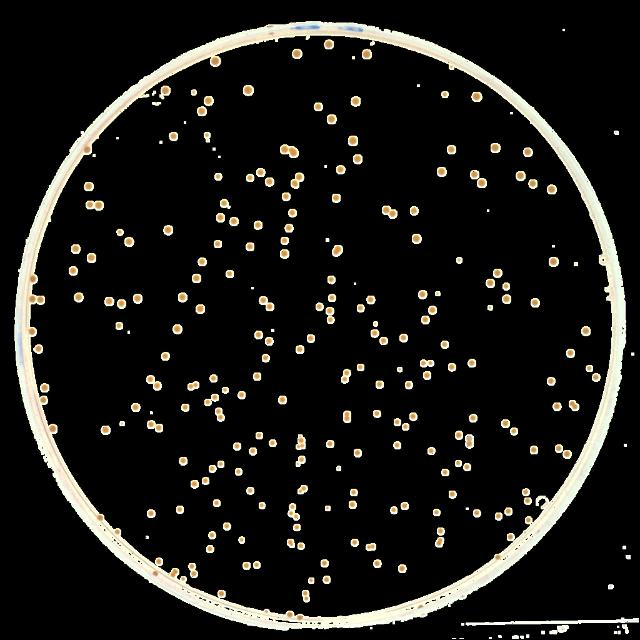colony: (288, 146, 298, 160), (351, 96, 362, 108), (418, 290, 428, 302), (515, 170, 525, 182), (291, 48, 303, 58), (569, 401, 579, 412), (412, 233, 422, 244), (332, 246, 343, 256), (348, 136, 359, 146), (327, 115, 338, 125), (95, 201, 105, 211), (173, 324, 183, 334), (260, 353, 270, 363), (278, 395, 288, 405), (566, 348, 576, 358), (581, 327, 591, 337), (306, 334, 316, 344), (486, 278, 496, 288), (530, 298, 540, 308), (548, 257, 558, 267), (472, 92, 482, 102), (447, 144, 457, 154), (438, 167, 448, 177), (490, 144, 500, 154), (469, 170, 479, 180), (528, 179, 538, 189), (324, 40, 334, 50), (361, 50, 371, 60), (343, 411, 351, 423), (429, 304, 437, 316), (493, 268, 501, 280), (502, 294, 510, 306), (256, 168, 268, 176), (524, 146, 532, 158), (546, 186, 558, 194), (85, 146, 94, 156), (411, 206, 419, 217), (171, 132, 179, 142), (84, 182, 92, 192), (126, 238, 134, 248), (69, 266, 77, 276), (105, 298, 115, 306), (134, 294, 142, 304), (178, 294, 188, 302), (162, 350, 170, 360), (254, 371, 262, 381), (146, 374, 154, 384), (40, 383, 50, 391), (38, 396, 48, 404), (102, 425, 110, 435), (178, 457, 188, 465), (190, 480, 198, 490), (552, 404, 562, 412), (440, 340, 450, 348), (342, 369, 352, 377), (367, 295, 375, 305), (503, 281, 511, 291), (390, 210, 398, 220), (280, 250, 290, 258), (296, 172, 304, 182), (477, 180, 487, 188), (116, 300, 125, 308), (238, 392, 246, 401), (218, 413, 226, 422), (247, 487, 256, 495), (468, 359, 477, 367), (400, 333, 408, 342), (382, 206, 391, 214), (88, 252, 95, 262), (592, 374, 602, 381), (211, 57, 219, 65), (161, 87, 169, 95), (214, 173, 222, 181), (220, 198, 228, 206), (214, 240, 222, 248), (246, 243, 254, 251), (198, 258, 206, 266), (226, 270, 234, 278), (72, 245, 80, 253), (75, 294, 83, 302), (116, 322, 124, 330), (36, 346, 44, 354), (196, 305, 204, 313), (258, 296, 266, 304), (132, 404, 140, 412), (221, 386, 229, 394), (233, 442, 241, 450), (250, 447, 258, 455), (202, 477, 210, 485), (322, 577, 330, 585), (286, 609, 294, 617), (350, 538, 358, 546), (398, 565, 406, 573), (327, 440, 335, 448), (401, 502, 409, 510), (432, 509, 440, 517), (437, 526, 445, 534), (436, 538, 444, 546), (494, 512, 502, 520), (410, 412, 418, 420), (564, 451, 572, 459), (584, 364, 592, 372), (376, 381, 384, 389), (296, 346, 304, 354), (328, 276, 336, 284), (423, 317, 431, 325), (337, 166, 345, 174), (332, 193, 340, 201), (354, 154, 362, 162), (30, 327, 36, 337), (298, 434, 304, 444), (426, 448, 436, 454), (450, 364, 456, 374), (245, 176, 255, 182), (281, 144, 287, 154), (243, 86, 250, 94), (374, 560, 381, 568), (472, 509, 480, 516), (424, 372, 431, 380), (286, 225, 294, 232), (115, 528, 122, 536), (29, 276, 38, 282), (219, 459, 225, 468), (148, 509, 154, 518), (450, 489, 456, 498), (204, 98, 212, 104), (116, 227, 122, 235), (165, 226, 171, 234), (229, 219, 237, 225), (194, 274, 200, 282), (38, 296, 44, 304), (30, 296, 36, 304), (210, 376, 218, 382), (155, 383, 161, 391), (48, 426, 56, 432), (148, 421, 154, 429), (182, 404, 188, 412), (177, 506, 183, 514), (156, 558, 162, 566), (258, 503, 266, 509), (223, 524, 231, 530), (209, 532, 217, 538), (188, 564, 196, 570), (287, 538, 293, 546), (322, 560, 328, 568), (302, 588, 308, 596), (350, 500, 356, 508), (350, 488, 356, 496), (390, 506, 396, 514), (505, 507, 511, 515), (442, 468, 448, 476), (470, 414, 476, 422), (522, 488, 530, 494), (511, 427, 517, 435), (405, 382, 413, 388), (357, 364, 365, 370), (341, 377, 349, 383), (370, 331, 378, 337), (380, 338, 388, 344), (266, 304, 274, 310), (316, 303, 322, 311), (326, 307, 332, 315), (328, 316, 334, 324), (327, 296, 335, 302), (357, 306, 365, 312), (456, 256, 462, 264), (288, 210, 296, 216), (283, 194, 291, 200), (291, 181, 299, 187), (316, 102, 322, 110), (200, 108, 207, 114), (156, 424, 162, 431), (212, 394, 218, 401), (255, 433, 262, 439), (214, 499, 220, 506), (355, 449, 361, 456), (394, 442, 401, 448), (463, 464, 469, 471), (87, 202, 93, 208), (255, 332, 261, 338), (266, 338, 272, 344), (194, 382, 200, 388), (187, 384, 193, 390), (204, 399, 210, 405), (215, 408, 221, 414), (270, 440, 276, 446), (210, 466, 216, 472), (235, 469, 241, 475), (192, 572, 198, 578), (172, 568, 178, 574), (218, 590, 224, 596), (239, 537, 245, 543), (300, 456, 306, 462), (302, 484, 308, 490), (293, 514, 299, 520), (298, 543, 304, 549), (309, 576, 315, 582), (366, 544, 372, 550), (370, 542, 376, 548), (324, 504, 330, 510), (494, 554, 500, 560), (466, 442, 472, 448), (395, 419, 401, 425), (374, 411, 380, 417), (530, 447, 536, 453), (556, 446, 562, 452), (548, 378, 554, 384), (429, 360, 435, 366), (420, 360, 426, 366), (397, 366, 403, 372), (434, 291, 440, 297), (216, 216, 224, 220), (254, 560, 258, 568), (298, 488, 302, 496), (508, 532, 512, 540), (456, 430, 460, 438), (402, 425, 410, 429), (502, 418, 506, 426), (266, 180, 274, 184), (450, 62, 454, 70), (204, 132, 210, 136), (256, 222, 262, 226), (208, 546, 212, 552), (170, 572, 176, 576), (182, 576, 186, 582), (244, 563, 248, 569), (296, 443, 300, 449), (289, 510, 293, 516), (294, 525, 298, 531), (304, 597, 310, 601), (298, 614, 302, 620), (456, 459, 460, 465), (526, 498, 530, 504), (526, 517, 530, 523), (374, 321, 378, 327), (282, 239, 288, 243), (442, 92, 448, 96), (98, 514, 102, 520), (153, 571, 157, 577), (191, 90, 195, 94), (120, 422, 124, 426), (302, 444, 306, 448), (296, 462, 300, 466), (291, 504, 295, 508), (467, 436, 471, 440), (488, 304, 492, 308), (264, 610, 268, 614), (338, 466, 340, 470)
